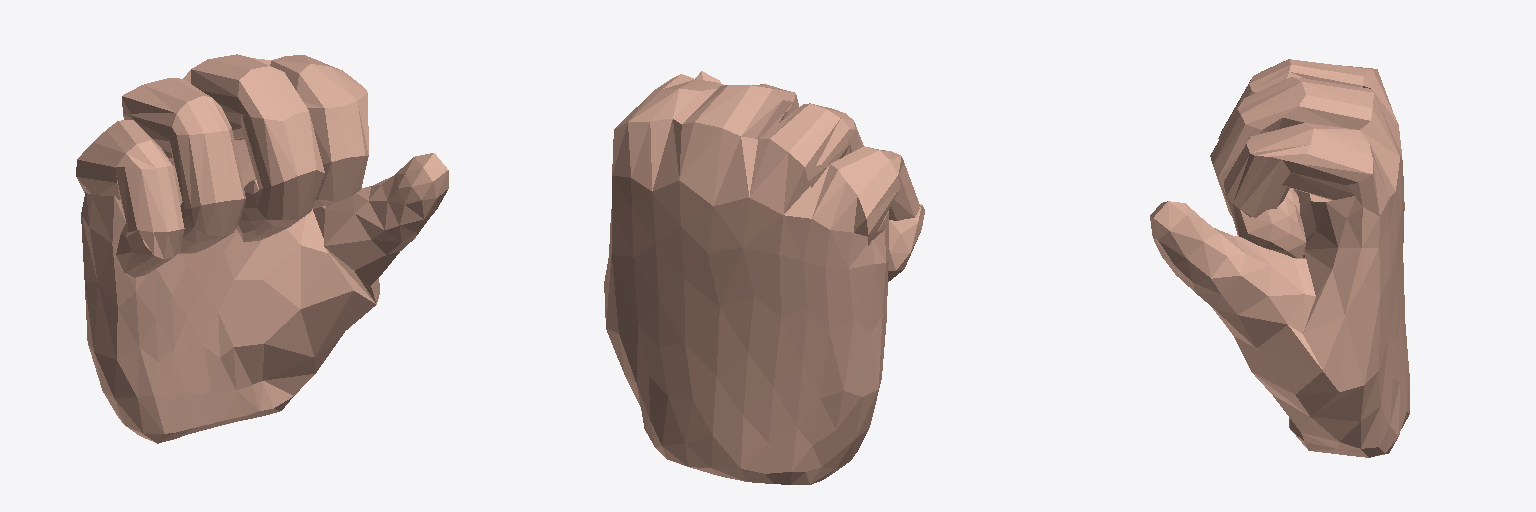
Rendered from O_CARACOL.obj.
3 renders of one model, left to right at view 1: azimuth 30°, elevation 25°; view 2: azimuth 150°, elevation 25°; view 3: azimuth 270°, elevation 25°, orthographic.
Parts seen in each view (by area): view 1: mao_dir:mao_dir; view 2: mao_dir:mao_dir; view 3: mao_dir:mao_dir.
Part boxes in pixels (bbox=[...]): mao_dir:mao_dir: bbox=[76, 54, 448, 443]; mao_dir:mao_dir: bbox=[604, 71, 924, 484]; mao_dir:mao_dir: bbox=[1150, 59, 1409, 457].
Bounding box in the file's own units: 130 × 154 × 103.